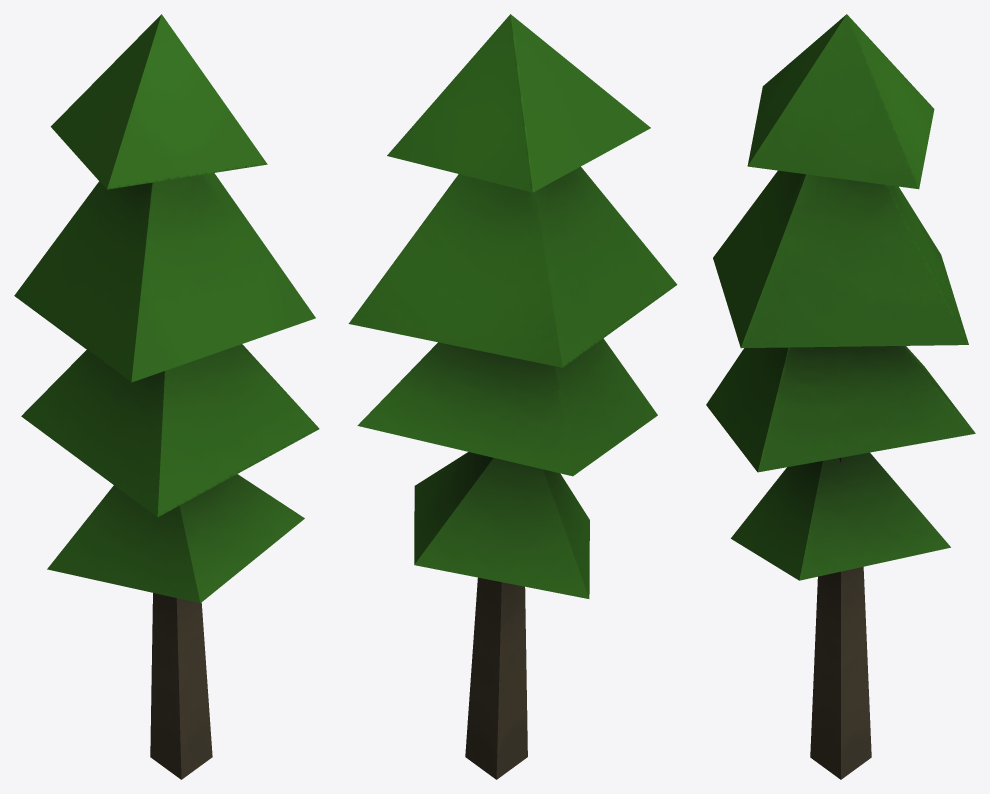
File: Bush_tree_01.FBX
3 renders of one model, left to right at view 1: azimuth 30°, elevation 25°; view 2: azimuth 150°, elevation 25°; view 3: azimuth 270°, elevation 25°, orthographic.
Visible parts, largest first — view 1: Bush_tree_01; view 2: Bush_tree_01; view 3: Bush_tree_01.
Part boxes in pixels (x1,y1,x2,y2): Bush_tree_01: [14, 14, 319, 779]; Bush_tree_01: [348, 14, 677, 779]; Bush_tree_01: [706, 14, 975, 779].
Size of the model in its own units: 16.21 by 17.4 by 52.83.
